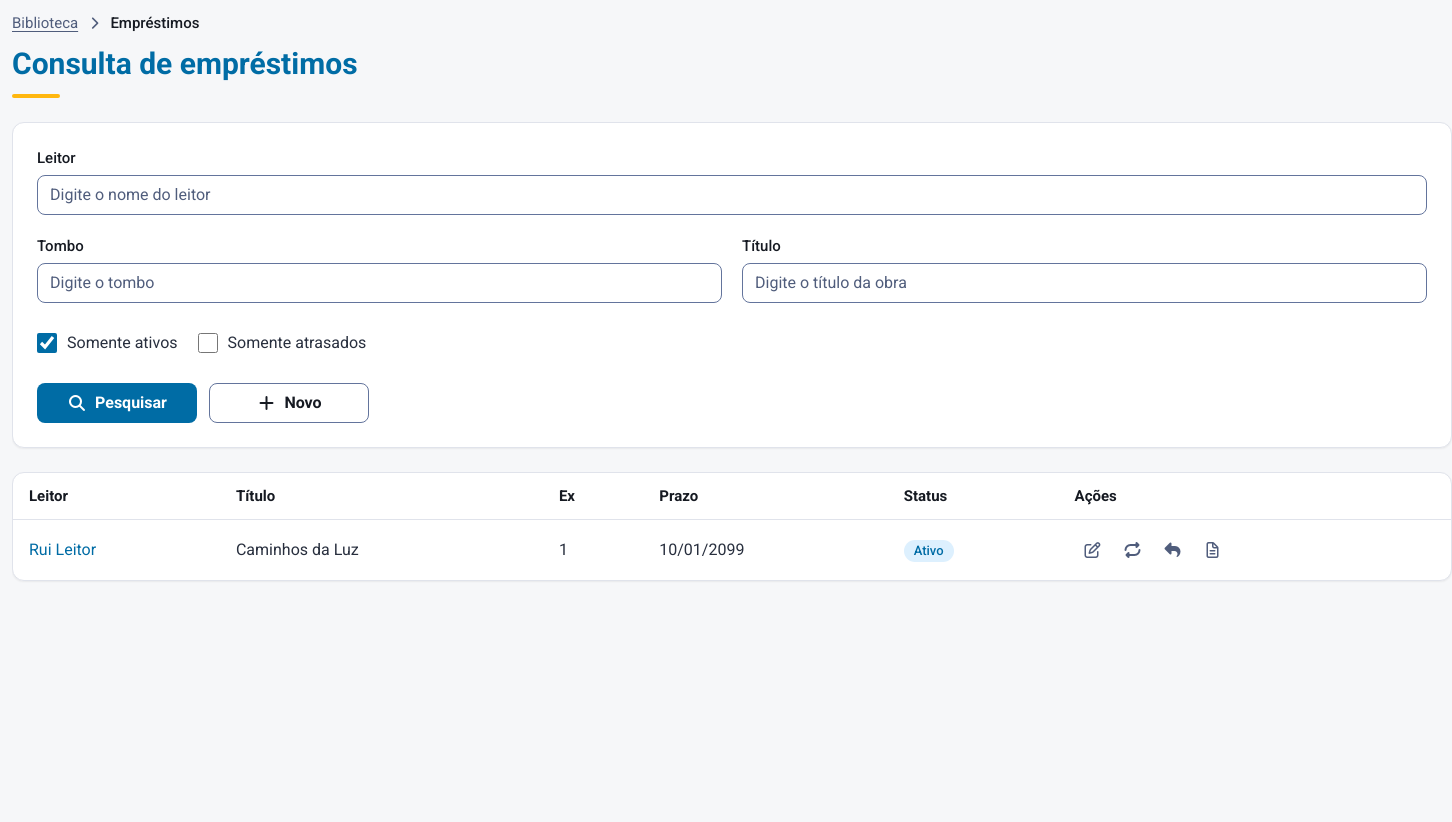
loans page actions › returns a loan and removes the return button
The image size is (1452, 822).
Click the button named "Devolver": coordinates (1173, 550) [1155,532,1191,568]
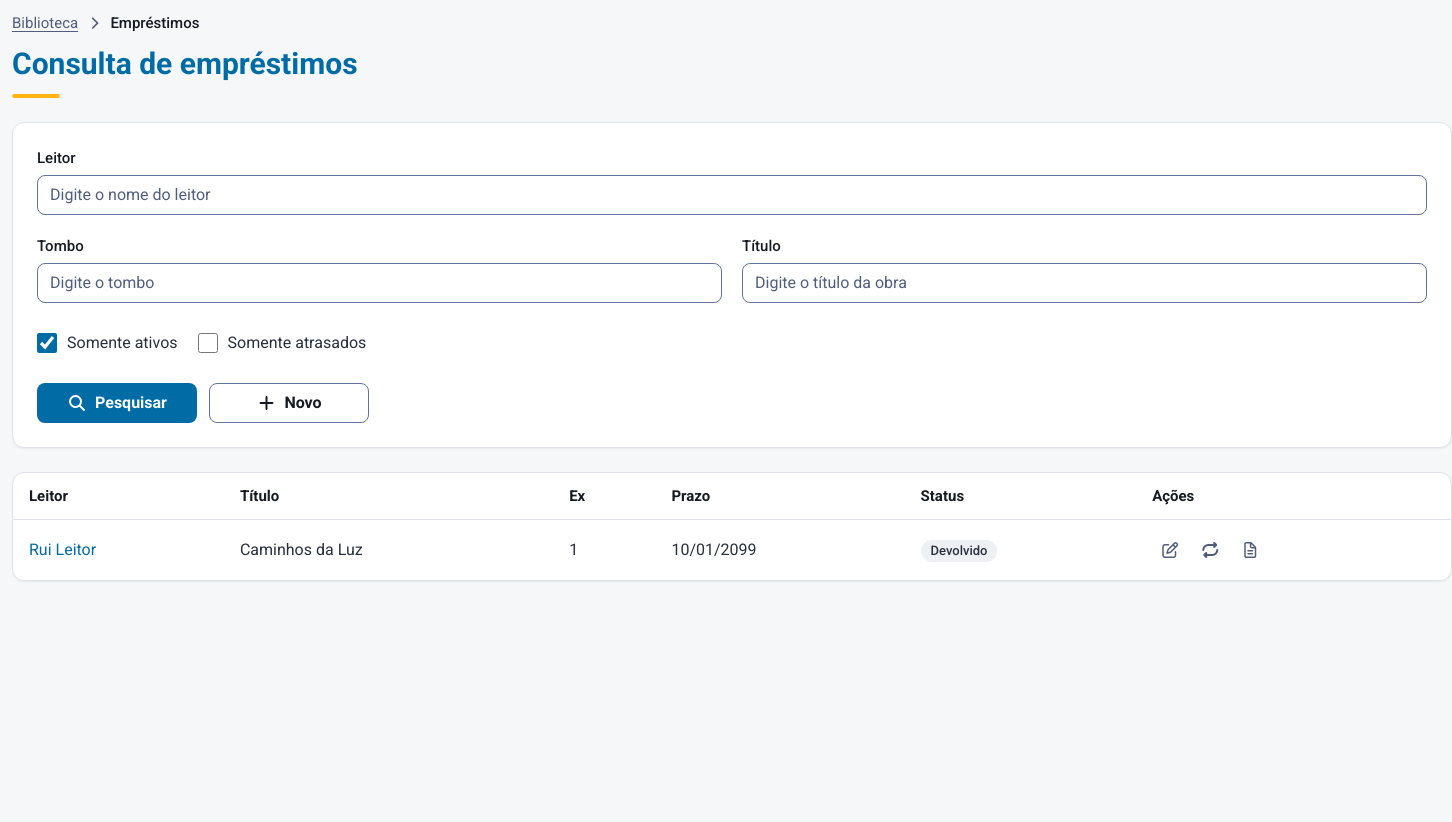
Check: the text "Devolvido" is shown, box [921,540,998,562]
Check: the button named "Devolver" is gone
